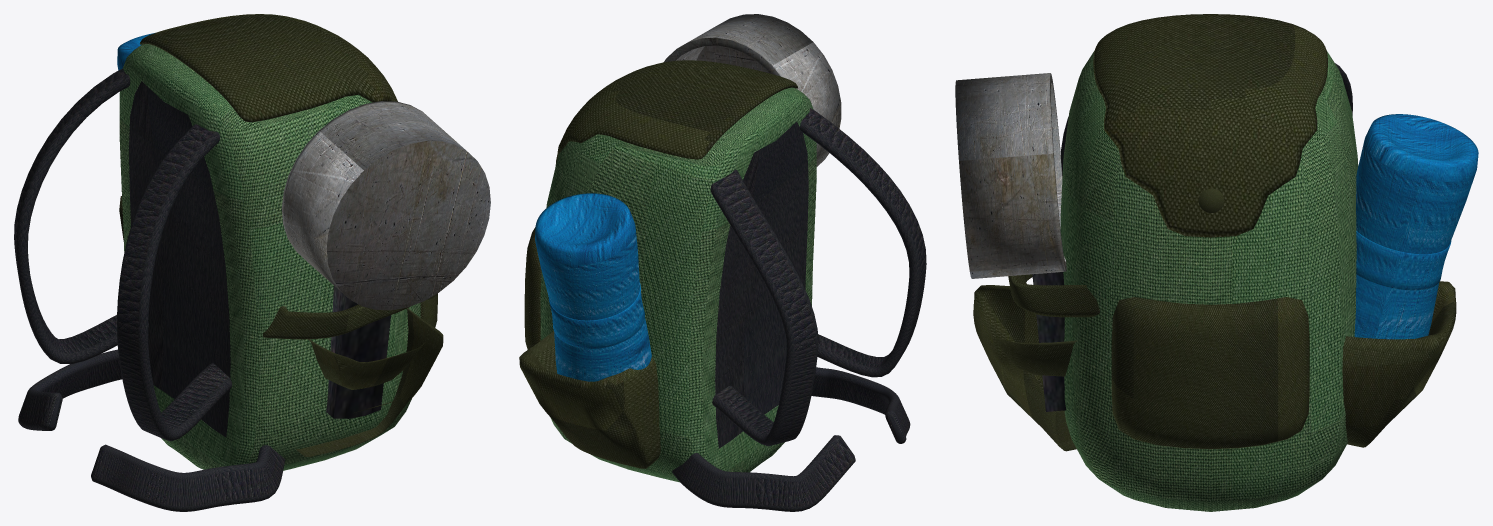
File: backpack.fbx
3 renders of one model, left to right at view 1: azimuth 30°, elevation 25°; view 2: azimuth 150°, elevation 25°; view 3: azimuth 270°, elevation 25°, orthographic. The views are drawn at different scales.
Parts seen in each view (by area): view 1: BezierCurve.005, Cylinder.002, BezierCurve, BezierCurve.001; view 2: BezierCurve.005, Cylinder, BezierCurve.001, Cylinder.002, BezierCurve, Cylinder.001; view 3: BezierCurve.005, Cylinder.002, Cylinder, Cylinder.001.
Part boxes in pixels (x1,y1,x2,y2): BezierCurve.005: (18, 14, 443, 511); Cylinder.002: (281, 101, 490, 418); BezierCurve: (117, 124, 231, 441); BezierCurve.001: (14, 68, 148, 363); BezierCurve.005: (519, 60, 910, 511); Cylinder: (535, 193, 651, 381); BezierCurve.001: (710, 169, 818, 446); Cylinder.002: (664, 14, 841, 166); BezierCurve: (800, 107, 926, 377); Cylinder.001: (548, 282, 644, 348); BezierCurve.005: (973, 14, 1456, 511); Cylinder.002: (955, 73, 1066, 411); Cylinder: (1354, 114, 1478, 339); Cylinder.001: (1356, 231, 1451, 290).
Size of the model in its own units: 291 by 311 by 345.
